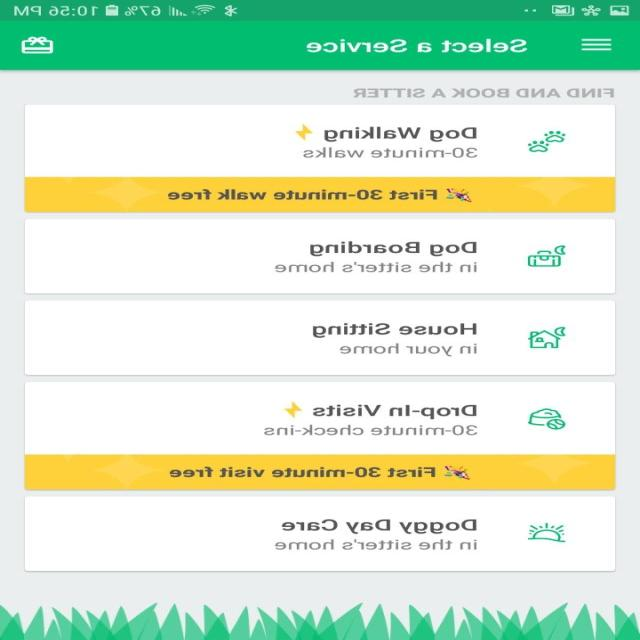Icon: (528, 326, 566, 348), (527, 244, 565, 266), (22, 36, 55, 54), (580, 38, 612, 51)
Image: (1, 602, 640, 639), (527, 130, 566, 152), (528, 521, 568, 542), (528, 408, 566, 430), (444, 466, 472, 480), (446, 188, 473, 202), (284, 401, 304, 418), (295, 124, 314, 140)
Text: (168, 188, 438, 200), (282, 518, 477, 534), (306, 39, 528, 53), (170, 467, 436, 478), (312, 322, 478, 338), (353, 88, 615, 98), (310, 241, 478, 256), (312, 404, 478, 419), (324, 126, 478, 142), (274, 261, 478, 273), (274, 538, 478, 550), (264, 424, 478, 435), (340, 342, 478, 357), (303, 147, 478, 158)
